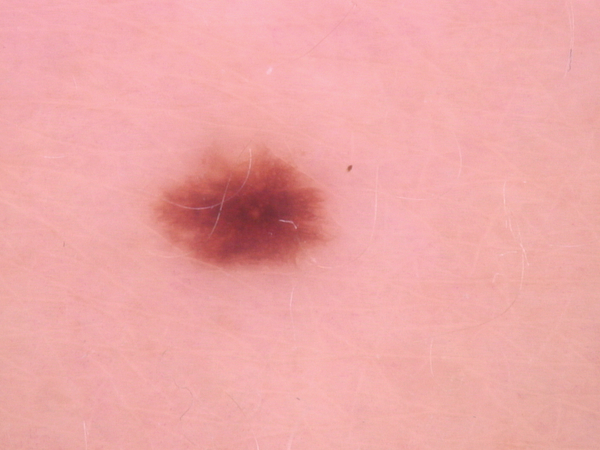Detected Lesion: (142, 139, 338, 278)
